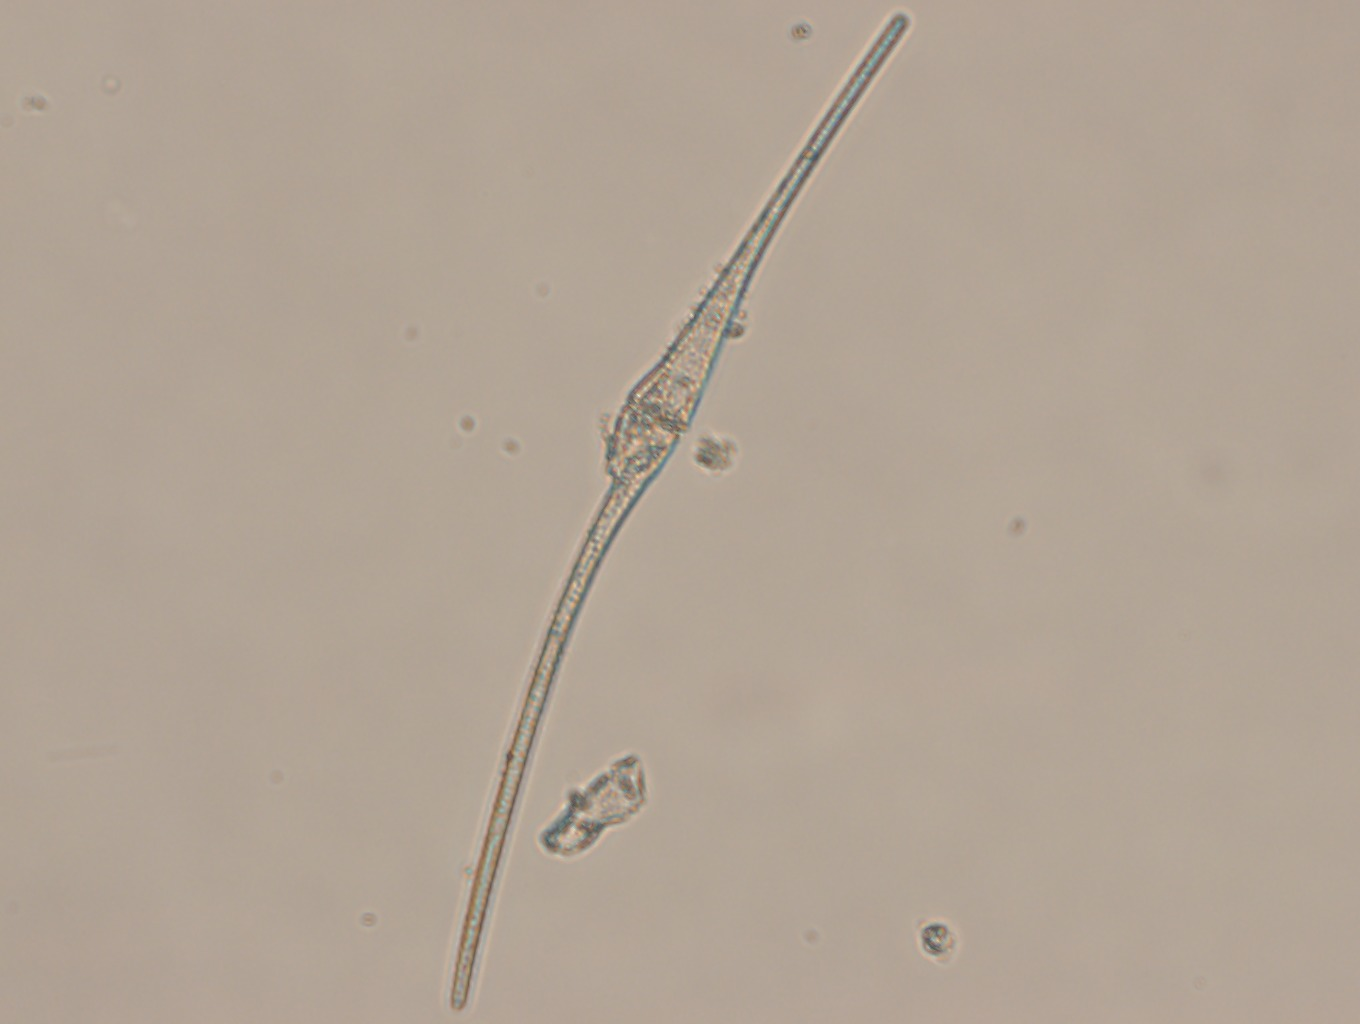ceratium fusus: (448, 15, 925, 1012)
